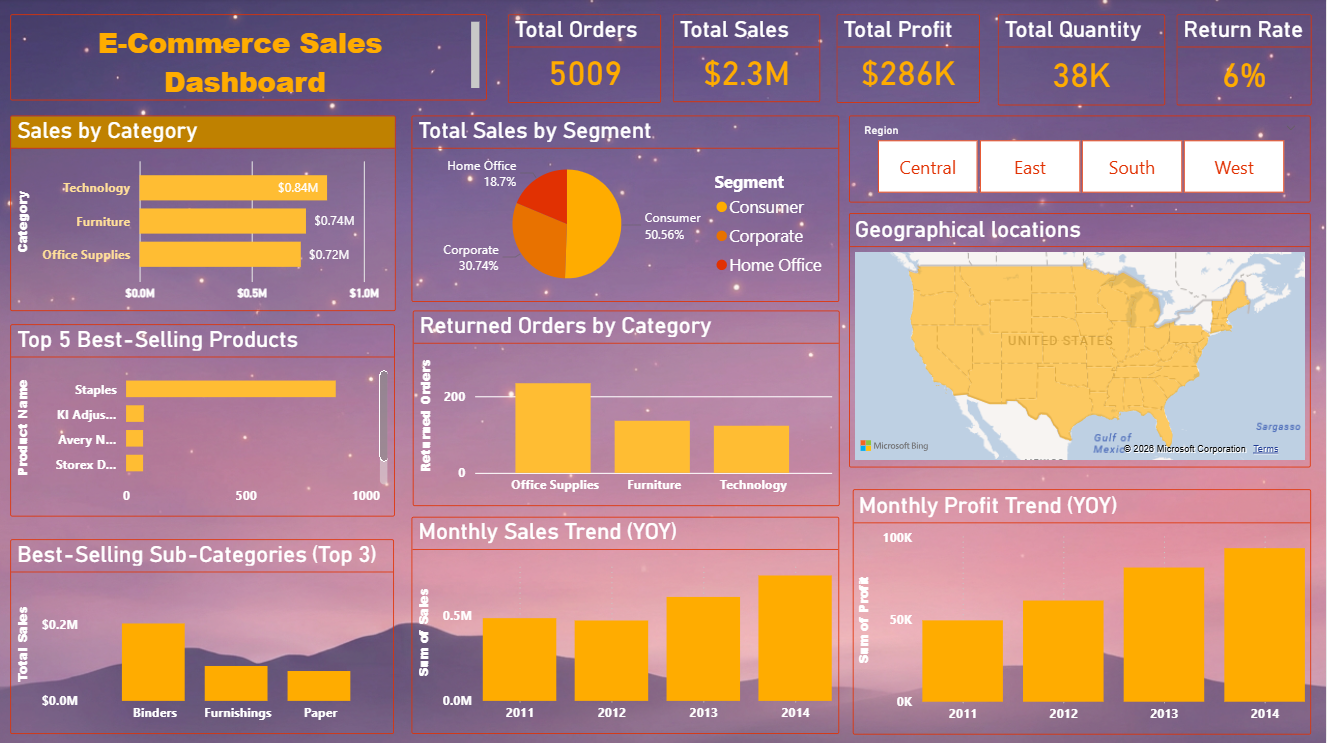

This screenshot's page, from the dashboard's own definition file:
{"tool":"powerbi","page":{"name":"Dashboard","canvas":[1280,720],"ordinal":0},"visuals":[{"type":"barChart","title":"Sales by Category","fields":{"Category":["Orders.Category"],"Y":["Orders.Total Sales"]},"box":[10.3,112.8,371.8,188.5],"z":0},{"type":"columnChart","fields":{"Category":["Orders.Category"],"Y":["Returns.Returned Orders"]},"box":[398.8,301.2,412.3,188.9],"z":1000},{"type":"columnChart","title":"Monthly Profit Trend (YOY)","fields":{"Category":["Orders.Order Date.Variation.Date Hierarchy.Month","Orders.Order Date.Variation.Date Hierarchy.Year"],"Y":["Sum(Orders.Profit)"]},"box":[824,474.1,442.8,236.5],"z":2000},{"type":"pieChart","fields":{"Y":["Orders.Total Sales"],"Category":["Orders.Segment"]},"box":[398.1,113.4,412.6,179.8],"z":3000},{"type":"lineClusteredColumnComboChart","title":"Monthly Sales Trend (YOY)","fields":{"Category":["Orders.Order Date.Variation.Date Hierarchy.Month","Orders.Order Date.Variation.Date Hierarchy.Year"],"Y":["Sum(Orders.Sales)"]},"box":[398.1,500.7,412.6,209.9],"z":4000},{"type":"barChart","title":"Top 5 Best-Selling Products","fields":{"Category":["Orders.Product Name"],"Y":["Sum(Orders.Quantity)"]},"box":[10.9,314.9,371.6,185.8],"z":5000},{"type":"lineStackedColumnComboChart","title":"Best-Selling Sub-Categories (Top 3)","fields":{"Category":["Orders.Sub-Category"],"Y":["Orders.Total Sales"]},"box":[10.9,522.4,370.4,188.2],"z":6000},{"type":"slicer","fields":{"Values":["Orders.Region"]},"box":[820.9,114,445.8,83.7],"z":7000},{"type":"textbox","box":[10.3,15.4,460.3,83.3],"z":8000},{"type":"advanceCardE03760C5AB684758B56AA29F9E6C257B","title":"Total Sales","fields":{"mainMeasure":["Orders.Total Sales"]},"box":[650.3,15.7,142.4,84.5],"z":9000},{"type":"advanceCardE03760C5AB684758B56AA29F9E6C257B","title":"Total Profit","fields":{"mainMeasure":["Orders.Total Profit"]},"box":[808.3,15.7,138.7,85.7],"z":10000},{"type":"advanceCardE03760C5AB684758B56AA29F9E6C257B","title":"Total Orders","fields":{"mainMeasure":["Orders.Total Orders"]},"box":[491,15.7,148.4,85.7],"z":11000},{"type":"advanceCardE03760C5AB684758B56AA29F9E6C257B","title":"Return Rate","fields":{"mainMeasure":["Returns.Return Rate"]},"box":[1136.5,15.7,130.3,88.1],"z":12000},{"type":"advanceCardE03760C5AB684758B56AA29F9E6C257B","title":"Total Quantity ","fields":{"mainMeasure":["Orders.Total Quantity"]},"box":[963.9,15.7,161.7,88.1],"z":13000},{"type":"filledMap","title":"Geographical locations","fields":{"Category":["Orders.State"]},"box":[820.9,207.8,445.8,245.3],"z":14000}]}

Visuals, with their boxes in screenshot pixels (x1, y1, x2, y2), scaled from the page's 1280x720 canvas onto the 1327x743 screenshot:
"Sales by Category" barChart: x1=11 y1=116 x2=396 y2=311
columnChart - Orders.Category x Returns.Returned Orders: x1=413 y1=311 x2=841 y2=506
"Monthly Profit Trend (YOY)" columnChart: x1=854 y1=489 x2=1313 y2=733
pieChart - Orders.Total Sales x Orders.Segment: x1=413 y1=117 x2=840 y2=303
"Monthly Sales Trend (YOY)" lineClusteredColumnComboChart: x1=413 y1=517 x2=840 y2=733
"Top 5 Best-Selling Products" barChart: x1=11 y1=325 x2=397 y2=517
"Best-Selling Sub-Categories (Top 3)" lineStackedColumnComboChart: x1=11 y1=539 x2=395 y2=733
slicer - Orders.Region: x1=851 y1=118 x2=1313 y2=204
textbox: x1=11 y1=16 x2=488 y2=102
"Total Sales" advanceCardE03760C5AB684758B56AA29F9E6C257B: x1=674 y1=16 x2=822 y2=103
"Total Profit" advanceCardE03760C5AB684758B56AA29F9E6C257B: x1=838 y1=16 x2=982 y2=105
"Total Orders" advanceCardE03760C5AB684758B56AA29F9E6C257B: x1=509 y1=16 x2=663 y2=105
"Return Rate" advanceCardE03760C5AB684758B56AA29F9E6C257B: x1=1178 y1=16 x2=1313 y2=107
"Total Quantity " advanceCardE03760C5AB684758B56AA29F9E6C257B: x1=999 y1=16 x2=1167 y2=107
"Geographical locations" filledMap: x1=851 y1=214 x2=1313 y2=468
